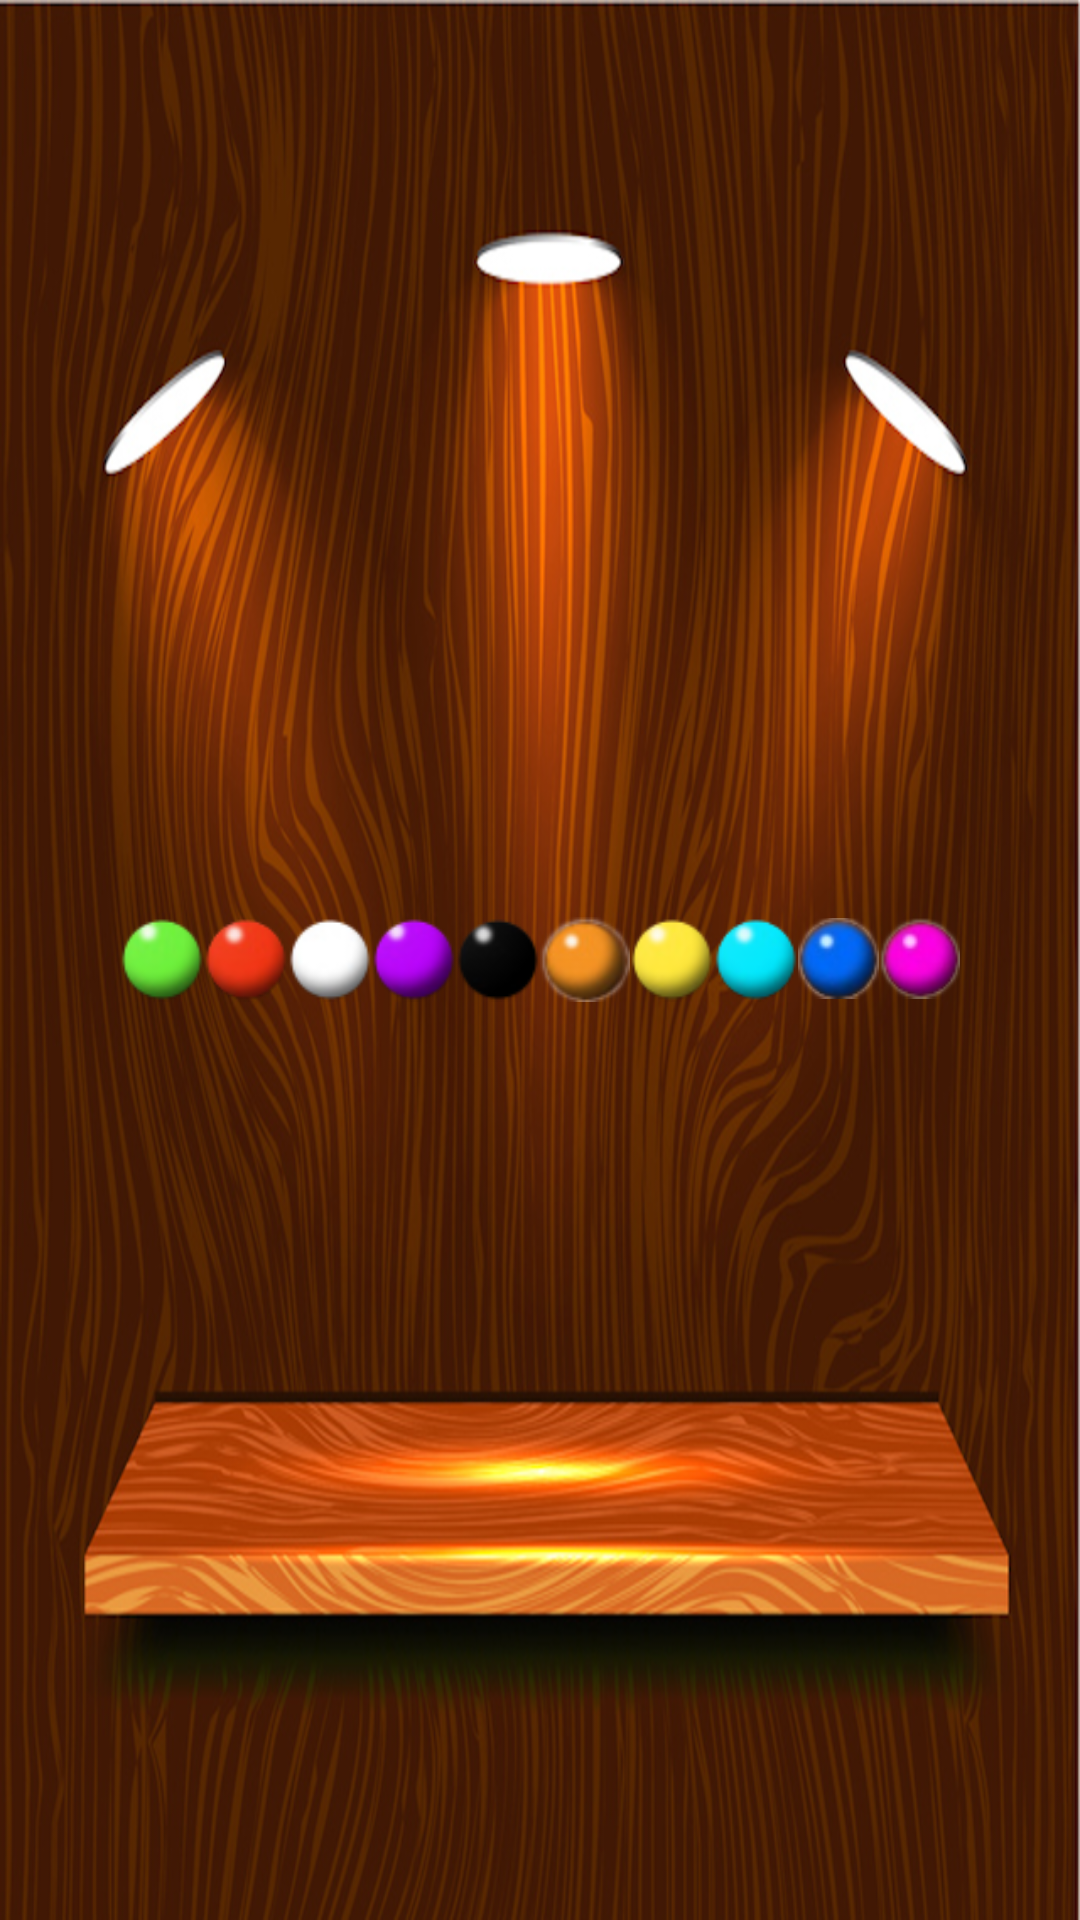

Icons on this 1080×1920 Android screen, each with the point to tap as [x,y]:
pazzurro: [755,959]
pbianco: [329,959]
pblu: [838,958]
pgiallo: [672,959]
pnera: [498,959]
porange: [586,959]
pred: [247,954]
pverde: [162,959]
pviola: [413,959]
pviolac: [919,953]
